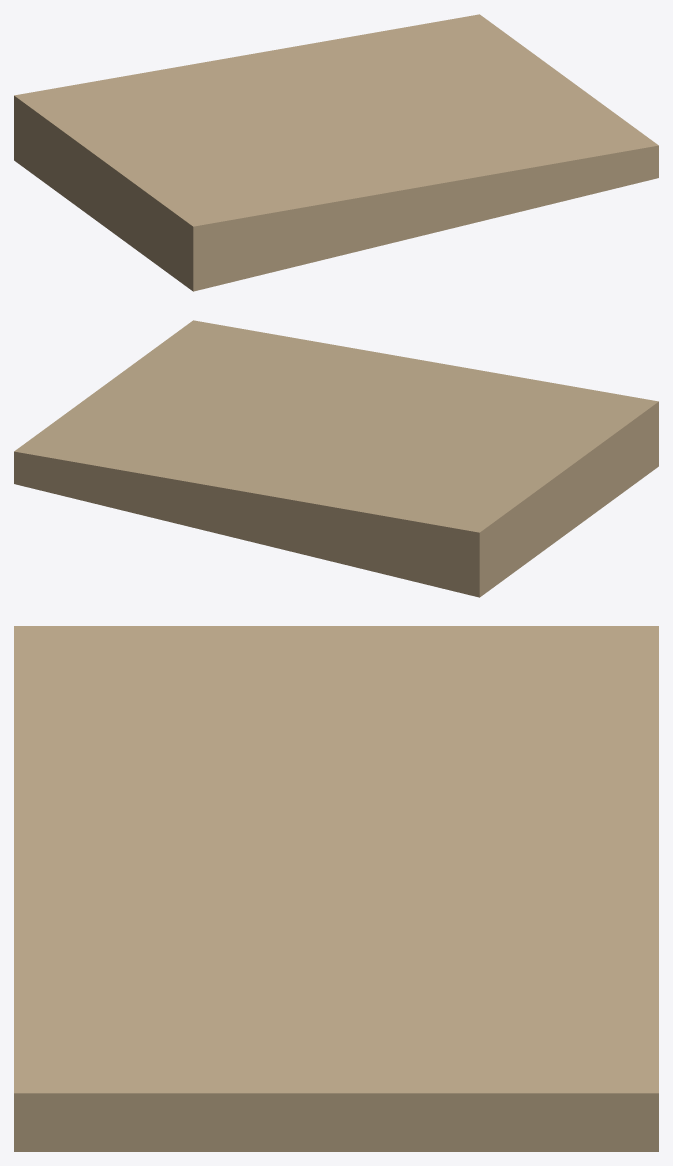
The model's file is Dirt_Fading_from_Gathered.obj.
3 renders of one model, top to bottom at view 1: azimuth 30°, elevation 25°; view 2: azimuth 150°, elevation 25°; view 3: azimuth 270°, elevation 25°, orthographic. The views are drawn at different scales.
Visible parts, largest first — view 1: object1; view 2: object1; view 3: object1.
Part boxes in pixels (<box>): object1: <box>14,14,658,291</box>; object1: <box>14,320,658,597</box>; object1: <box>14,626,658,1151</box>.
Bounding box in the file's own units: 1.5 × 0.2 × 1.
